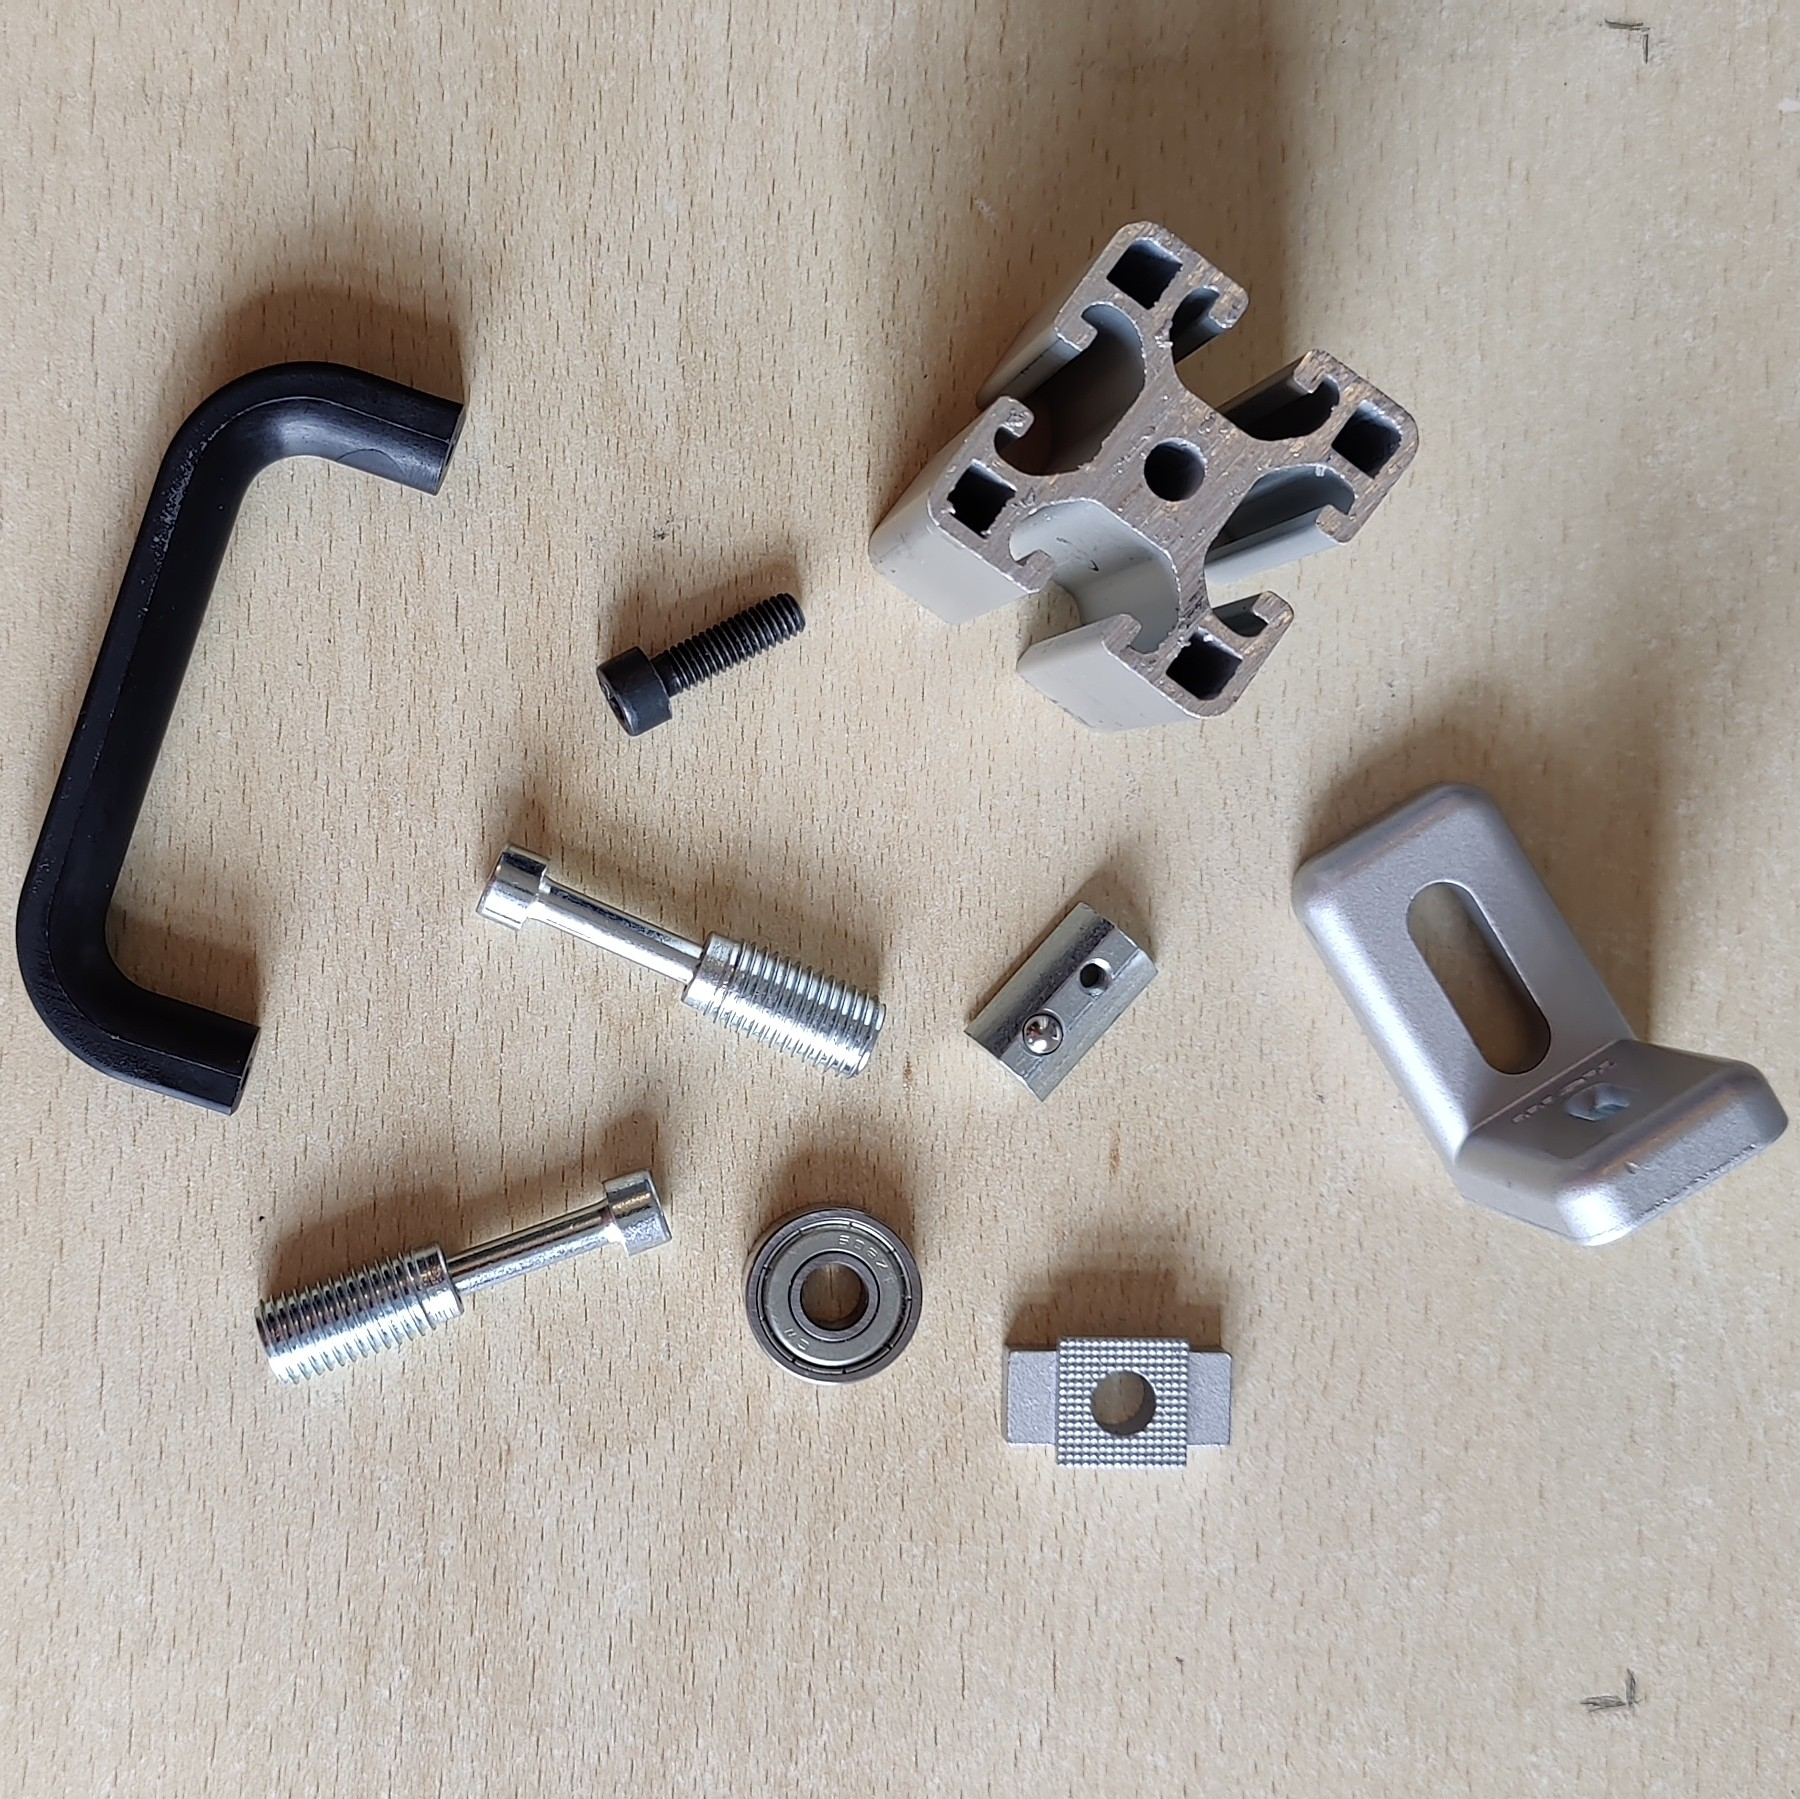Aluminium Extension: (866, 217, 1421, 733)
Ball Bearing: (738, 1199, 926, 1387)
Multiwinkel: (1288, 779, 1792, 1250)
Pull Handle: (13, 361, 469, 1117)
Shoulder Socket Head Cap Screw: (473, 840, 889, 1081), (254, 1163, 670, 1390)
Socket Head Cap Screw: (596, 588, 809, 735)
T Nut Square: (998, 1329, 1238, 1473)
T Spring Nut: (958, 899, 1161, 1104)
